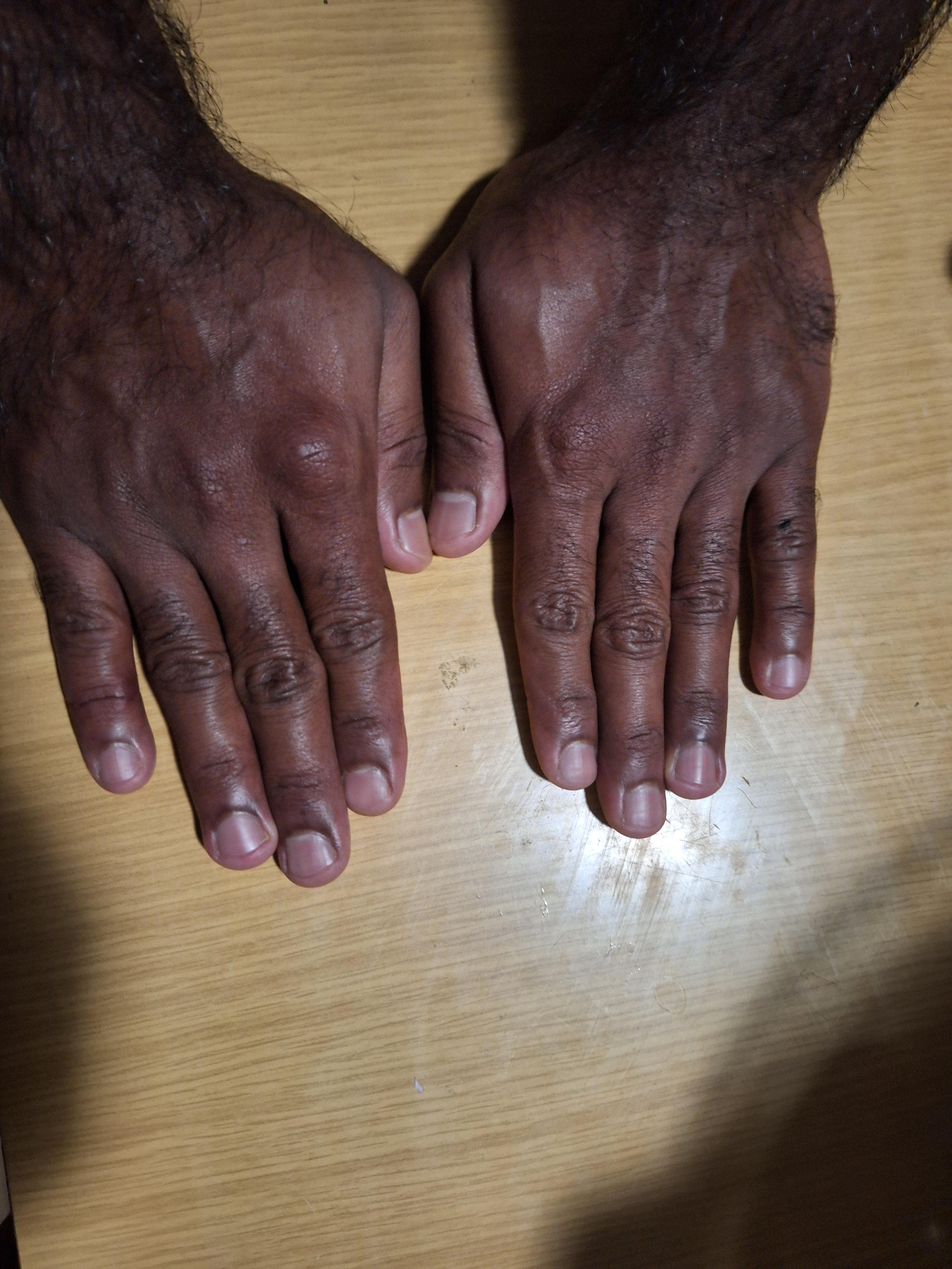Fingernail: (428, 490, 476, 541), (216, 813, 268, 857), (286, 835, 337, 878), (344, 767, 391, 809), (99, 742, 141, 784), (675, 746, 717, 787), (398, 508, 432, 558), (624, 786, 662, 828), (560, 744, 597, 786), (770, 658, 802, 688)
